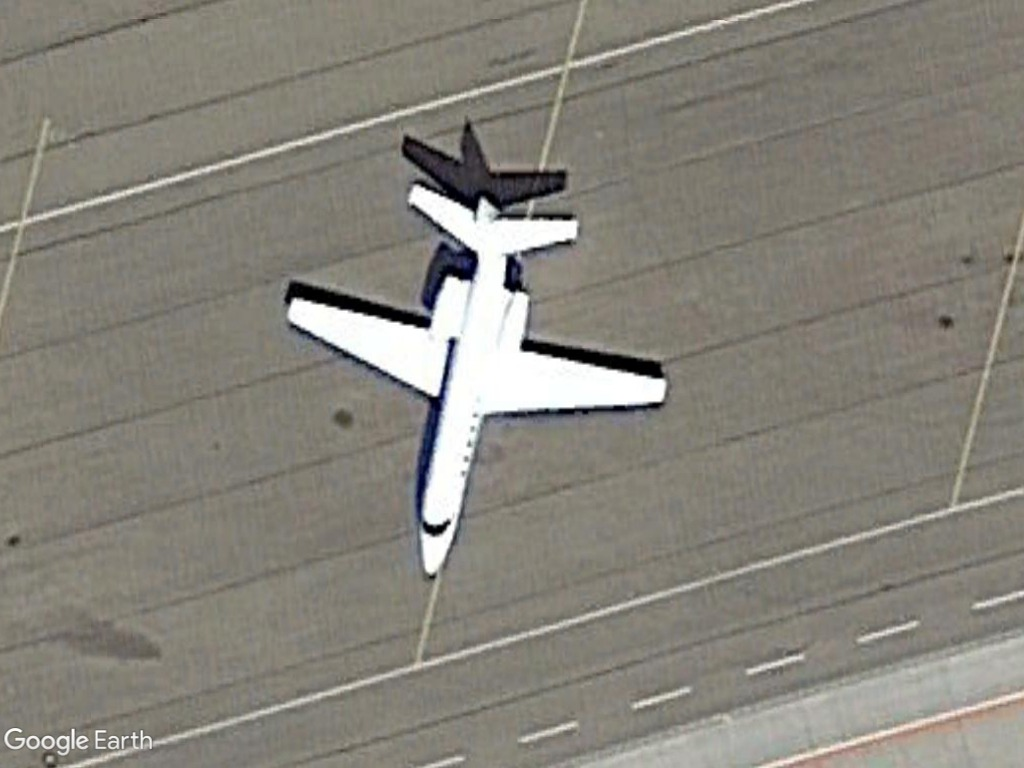chartered: (273, 175, 673, 592)
